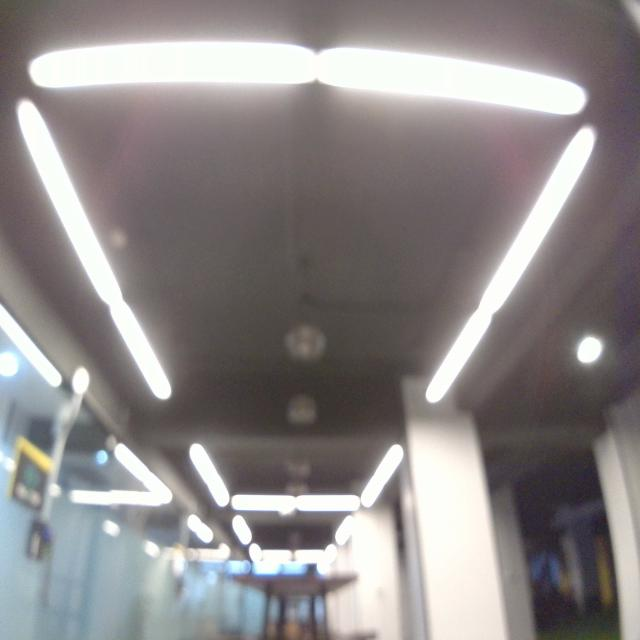lamp2_on: (410, 120, 609, 417), (19, 23, 608, 123), (8, 96, 186, 411)
